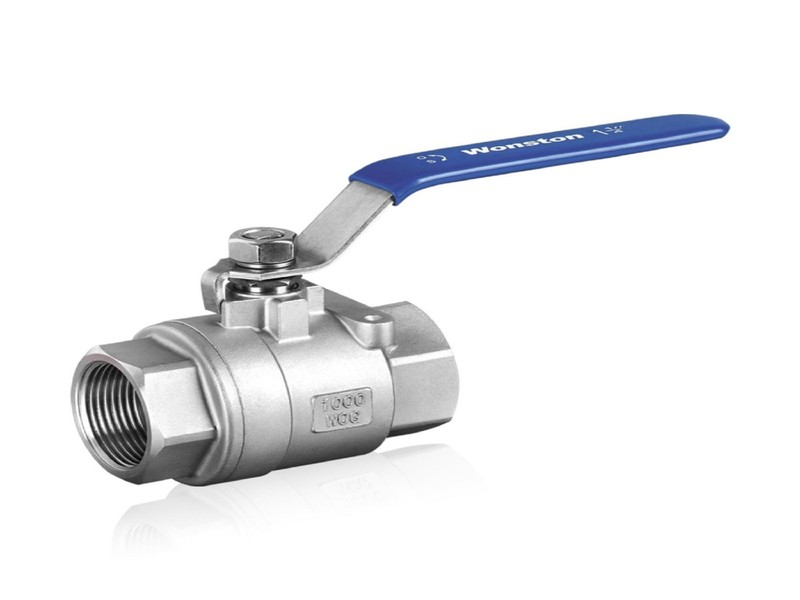valve: (15, 15, 744, 504)
